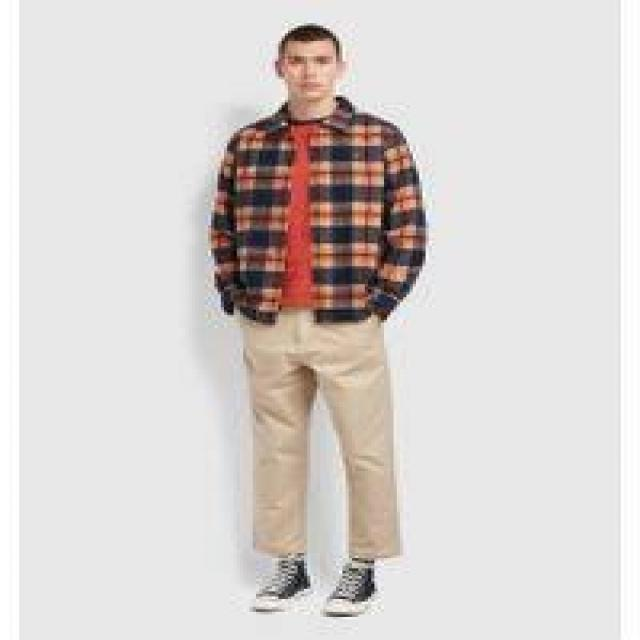plaid: (213, 100, 431, 324)
